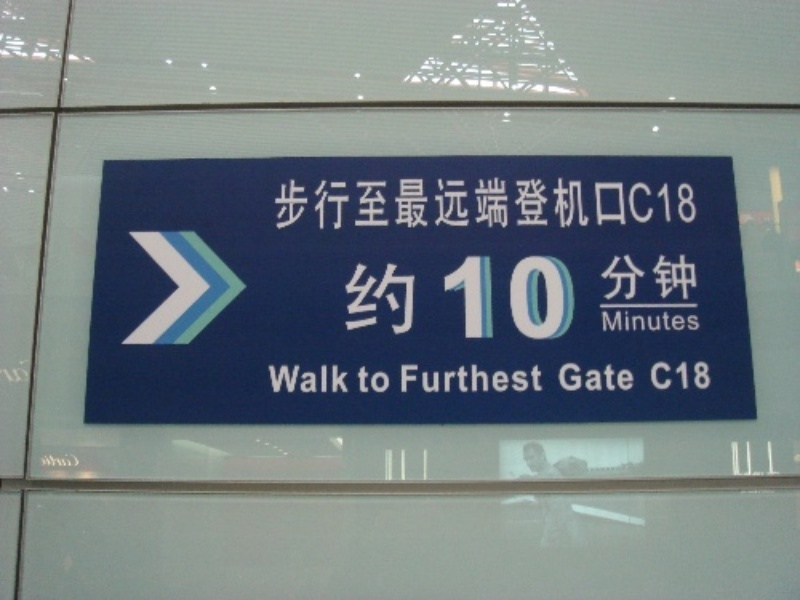text: (561, 255, 577, 343), (353, 255, 368, 343), (369, 255, 384, 343), (385, 255, 400, 343), (401, 255, 416, 343), (417, 255, 432, 343), (433, 255, 448, 343), (449, 255, 464, 343), (465, 255, 480, 343), (481, 255, 496, 343), (497, 255, 512, 343), (513, 255, 528, 343), (529, 255, 544, 343), (545, 255, 560, 343), (341, 255, 352, 343), (289, 178, 304, 231), (305, 178, 320, 231), (321, 178, 336, 231), (337, 178, 352, 231), (353, 178, 368, 231), (369, 178, 384, 231), (385, 178, 400, 231), (401, 178, 416, 231), (417, 178, 432, 231), (433, 178, 448, 231), (449, 178, 464, 231), (465, 178, 480, 231), (481, 178, 496, 231), (497, 178, 512, 231), (513, 178, 528, 231), (529, 178, 544, 231), (545, 178, 560, 231), (561, 178, 576, 231), (577, 178, 592, 231), (593, 178, 608, 231), (609, 178, 624, 231), (625, 178, 640, 231), (641, 178, 656, 231), (657, 178, 672, 231), (673, 178, 688, 231), (609, 252, 624, 305), (625, 252, 640, 305), (641, 252, 656, 305), (657, 252, 672, 305), (673, 252, 688, 305), (274, 178, 288, 231), (689, 178, 700, 231), (599, 252, 608, 305), (273, 365, 288, 396), (289, 365, 304, 396), (305, 365, 320, 396), (321, 365, 336, 396), (657, 361, 672, 391), (673, 361, 688, 391), (689, 361, 704, 391), (369, 365, 384, 394), (401, 364, 416, 393), (417, 364, 432, 393), (433, 364, 448, 393), (449, 364, 464, 393), (465, 364, 480, 393), (481, 364, 496, 393), (497, 364, 512, 393), (513, 364, 528, 393), (529, 364, 544, 393), (561, 362, 576, 391), (577, 362, 592, 391), (593, 362, 608, 391), (609, 362, 624, 391), (689, 252, 697, 305), (337, 365, 349, 396), (609, 309, 624, 332), (625, 309, 640, 332), (641, 309, 656, 332), (657, 309, 672, 332), (673, 309, 688, 332), (357, 365, 368, 394), (625, 362, 636, 391), (689, 309, 701, 332), (705, 361, 713, 391), (649, 361, 656, 391), (599, 309, 608, 332), (385, 365, 391, 394), (268, 365, 272, 396), (557, 362, 560, 391), (399, 364, 400, 393), (545, 364, 546, 393)
